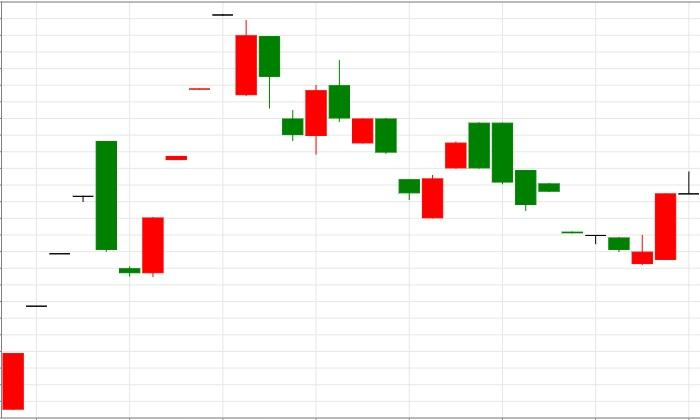bullish_engulfing_rise: (329, 60, 444, 219)
